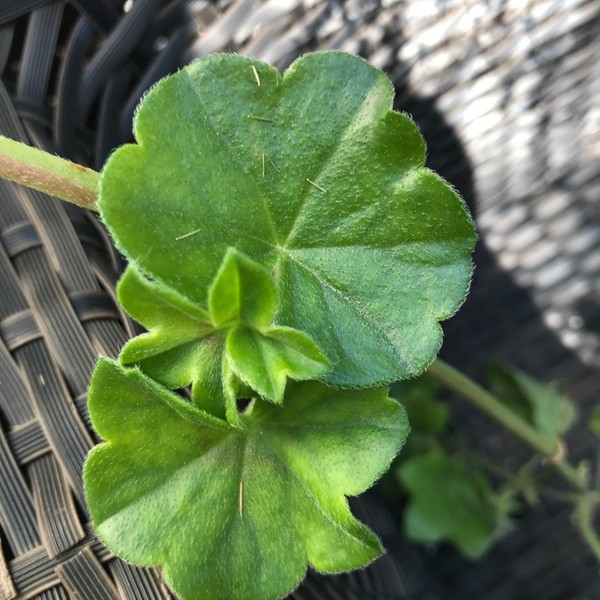obstacle: (107, 46, 430, 573)
